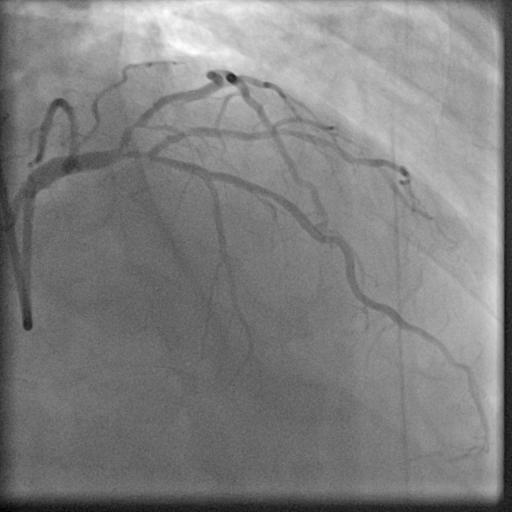Stenosis: (117, 117, 143, 140)
